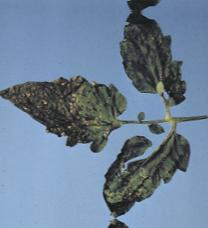Tomato Septoria leaf spot: (0, 69, 132, 159), (101, 122, 197, 218), (112, 12, 196, 112)
